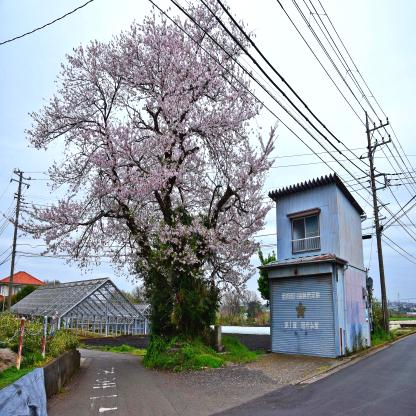Someiyoshino: (10, 1, 277, 288)
